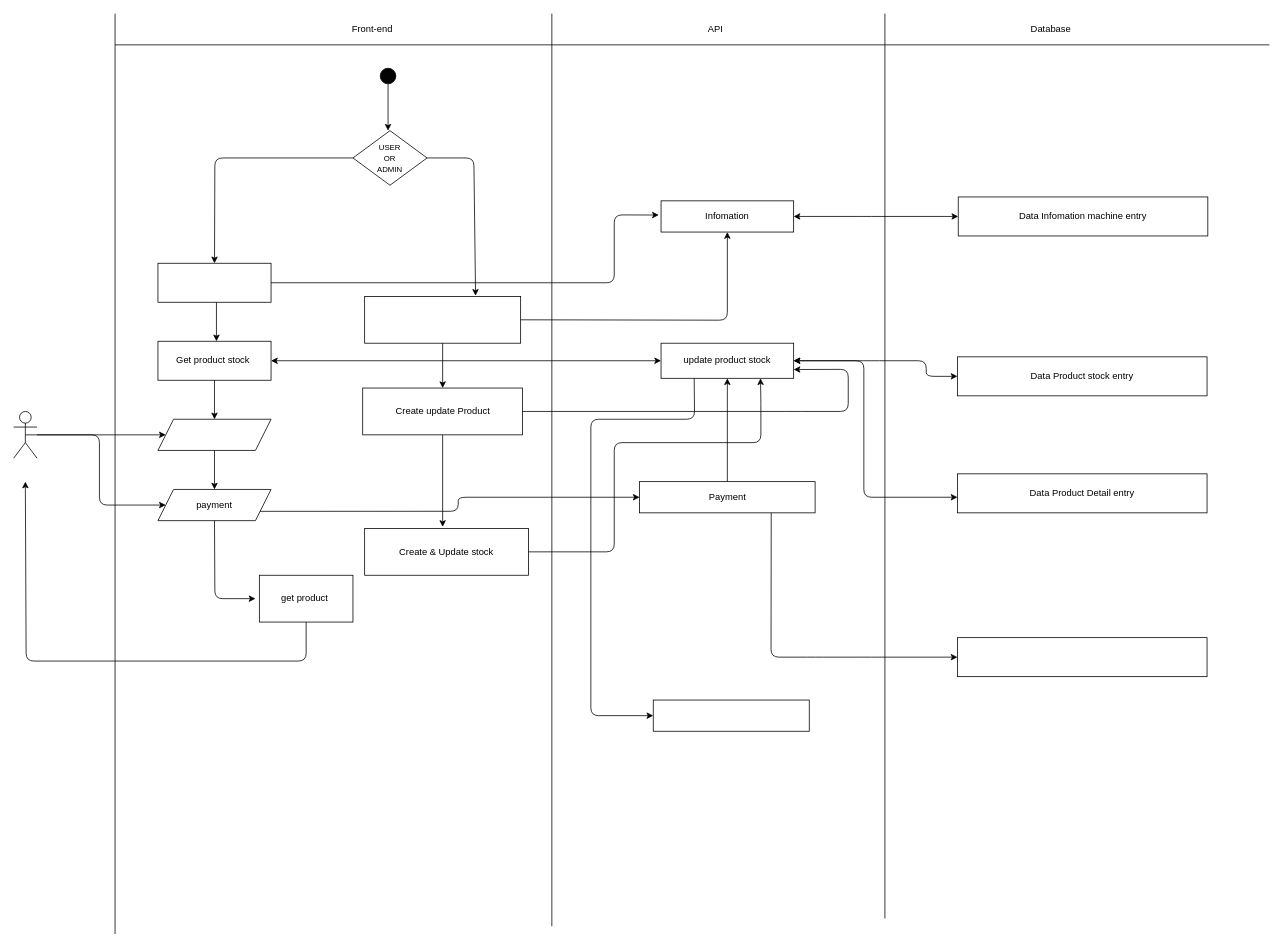
Image size: 1284x948. Some labels were removed from this diagram. Here are the shapes that lost their labels. From the top down, the centre of each, then its label:
the point at 214,282: Get infomation of account
the point at 442,319: Create Machine
the point at 25,434: User
the point at 214,434: Choose product
the point at 1082,657: Data payment detail entry
the point at 730,715: Update status of machine
